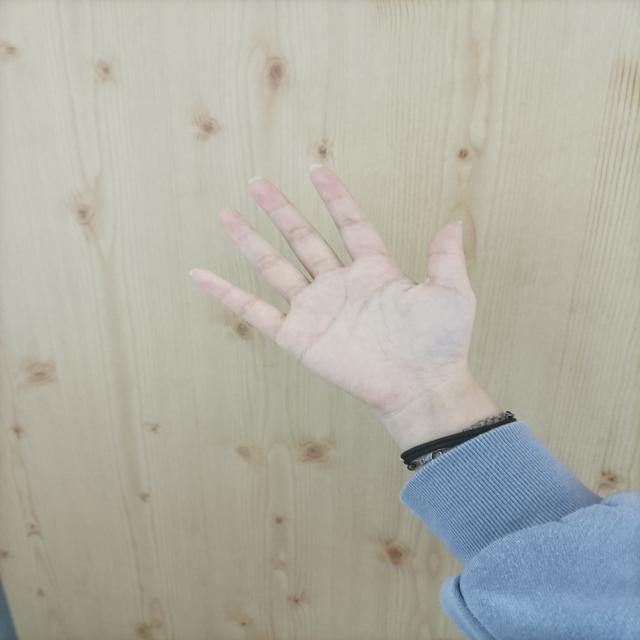no_glove: (177, 152, 494, 429)
